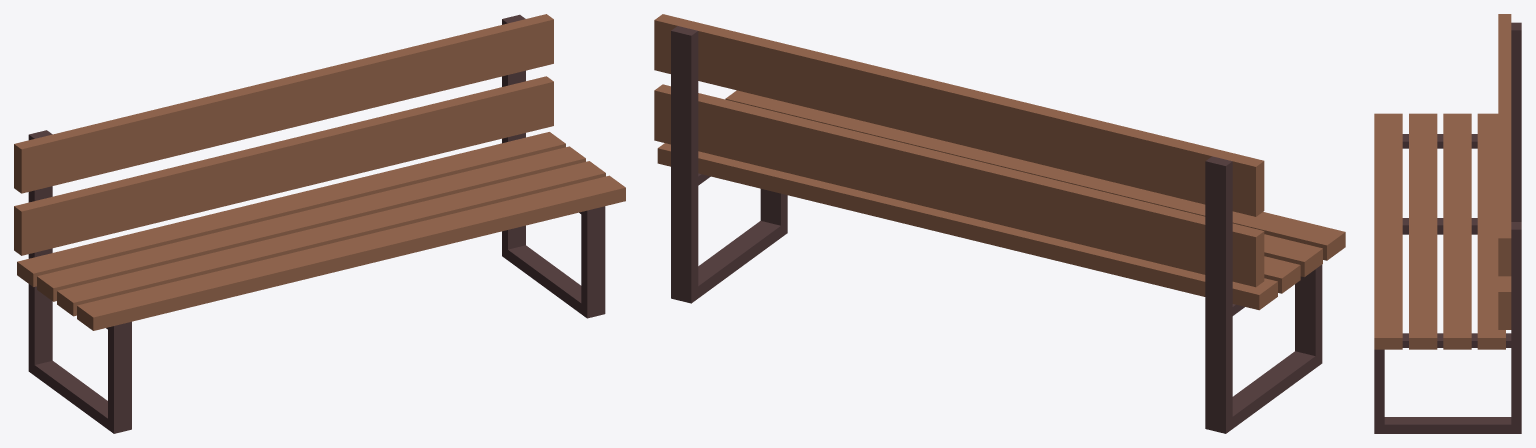
Rendered from Bench.fbx.
3 renders of one model, left to right at view 1: azimuth 30°, elevation 25°; view 2: azimuth 150°, elevation 25°; view 3: azimuth 270°, elevation 25°, orthographic. The views are drawn at different scales.
Visible parts, largest first — view 1: Bench; view 2: Bench; view 3: Bench.
Boxes of the visible parts, x1=… form: Bench: x1=14, y1=14, x2=625, y2=433; Bench: x1=654, y1=14, x2=1345, y2=433; Bench: x1=1374, y1=14, x2=1521, y2=433.
Size of the model in its own units: 2.58 by 1.1 by 0.7142.
